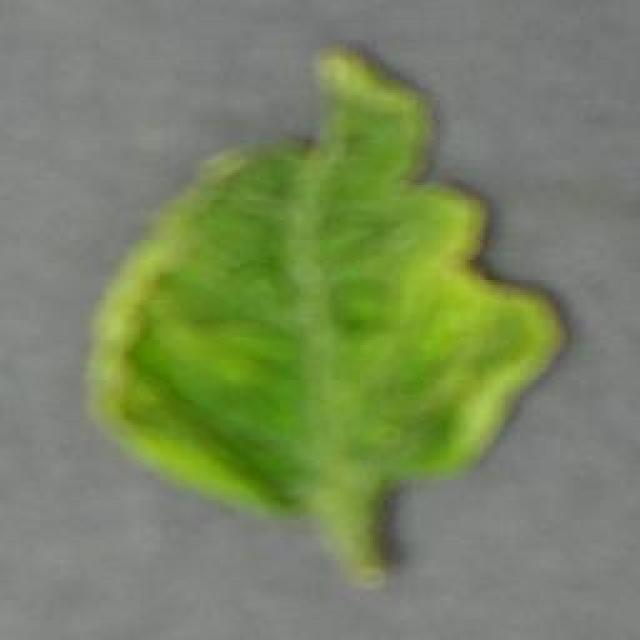Tom_Yellow_Leaf_Curl_Virus: (102, 133, 552, 495)
